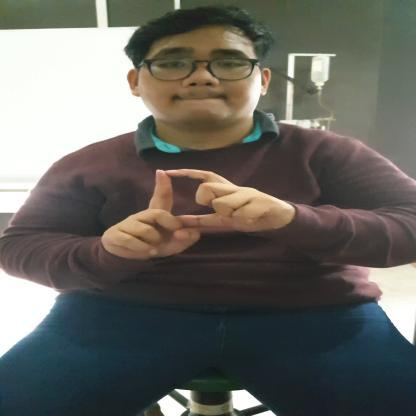D: (99, 168, 289, 260)
